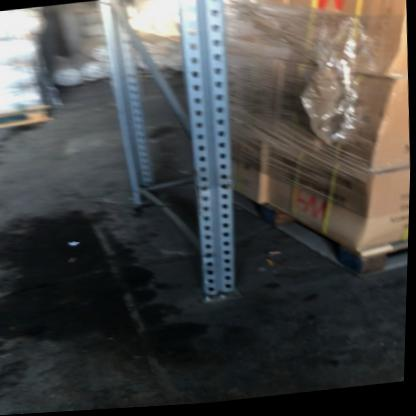vertical_damage: (192, 165, 247, 215)
